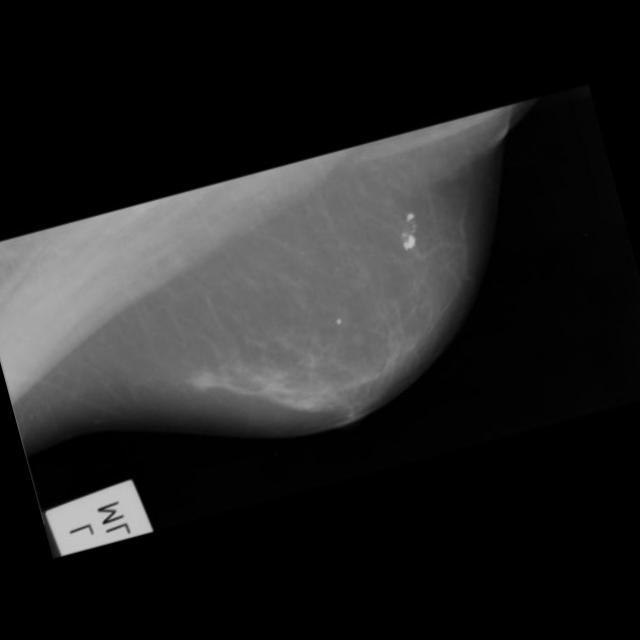ASYM: (186, 362, 221, 397)
